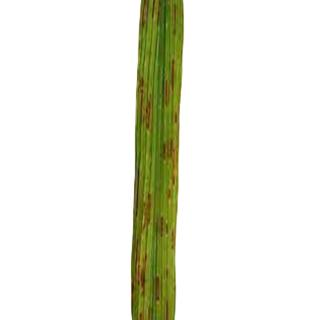bercak-Cokelat: (159, 135, 183, 198), (160, 55, 183, 108), (134, 77, 157, 129), (128, 238, 144, 303), (144, 1, 168, 38), (159, 213, 182, 246), (132, 163, 142, 223), (142, 186, 154, 236), (133, 303, 156, 320), (152, 272, 164, 303), (173, 2, 180, 36), (172, 108, 184, 124), (164, 298, 172, 320)
